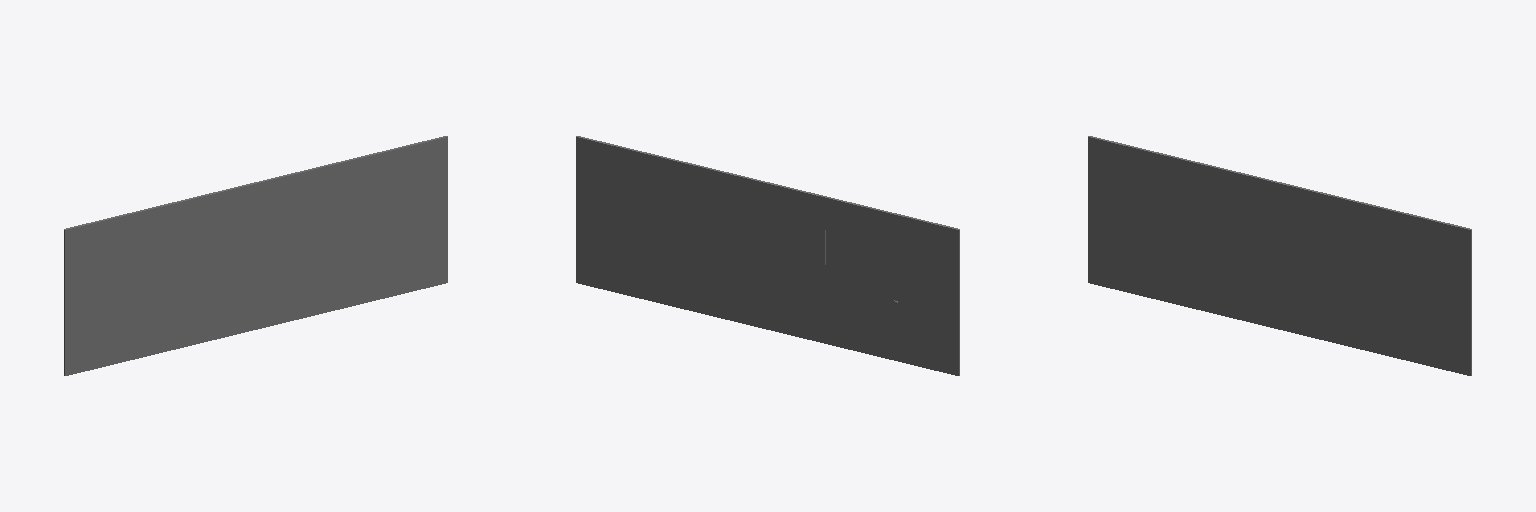
File: window.obj
The picture shows the model from 3 angles: view 1: azimuth 30°, elevation 25°; view 2: azimuth 150°, elevation 25°; view 3: azimuth 330°, elevation 25°; orthographic projection.
Visible parts, largest first — view 1: pCube4; view 2: pCube4; view 3: pCube4.
Boxes of the visible parts, box(x1,y1,x2,y2) form: pCube4: box(64, 136, 447, 375); pCube4: box(576, 136, 959, 375); pCube4: box(1088, 136, 1471, 375).
Bounding box in the file's own units: 6.89 × 2.51 × 0.0499.